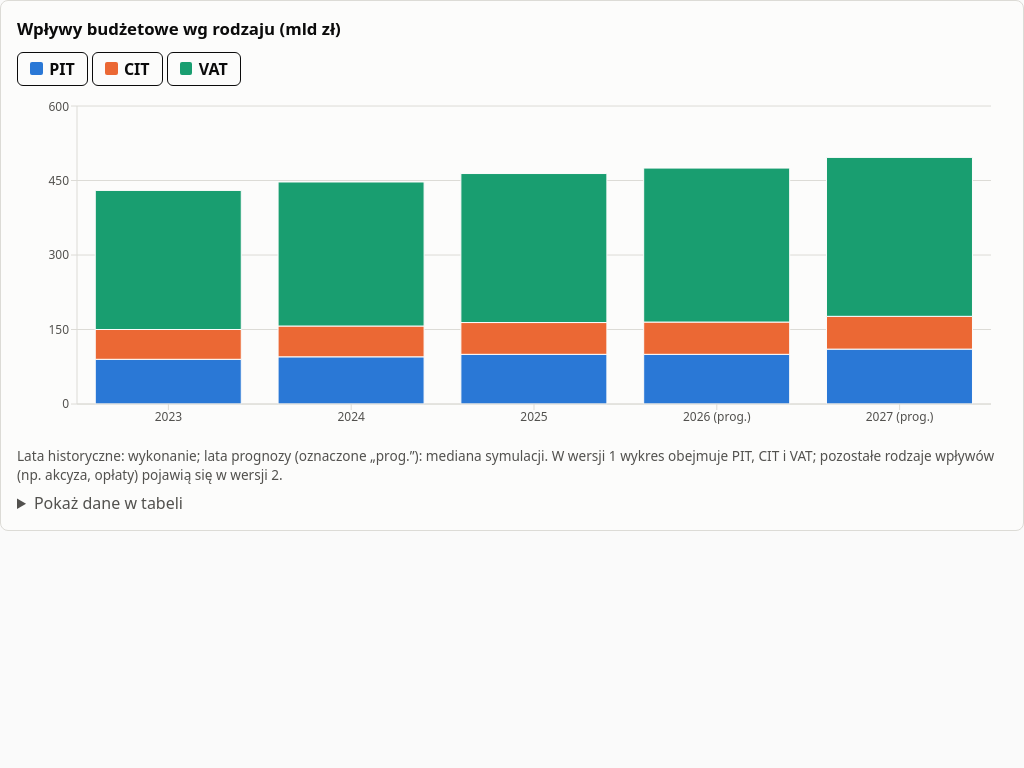
it: BudgetStack › BudgetStack legend toggles series
The image size is (1024, 768).
Step 1. Click the button "PIT" → (52, 69), box [17,52,88,86]
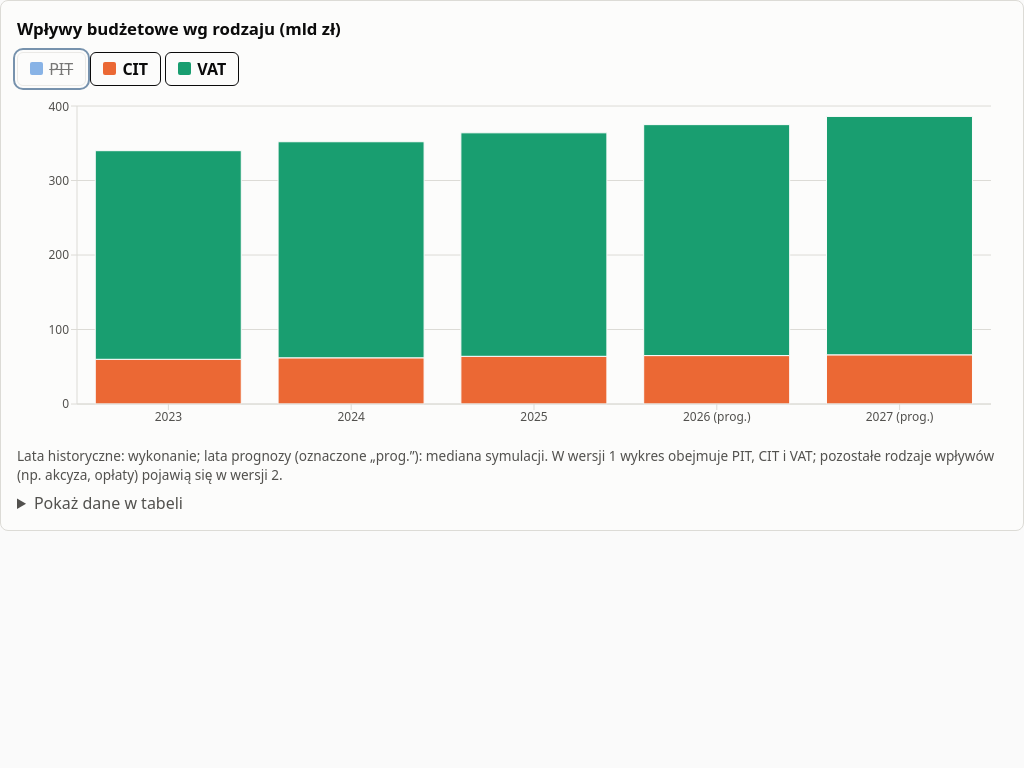
Check: the button "PIT" is not pressed
Step 2. Click the button "PIT" → (52, 69), box [17,52,86,86]
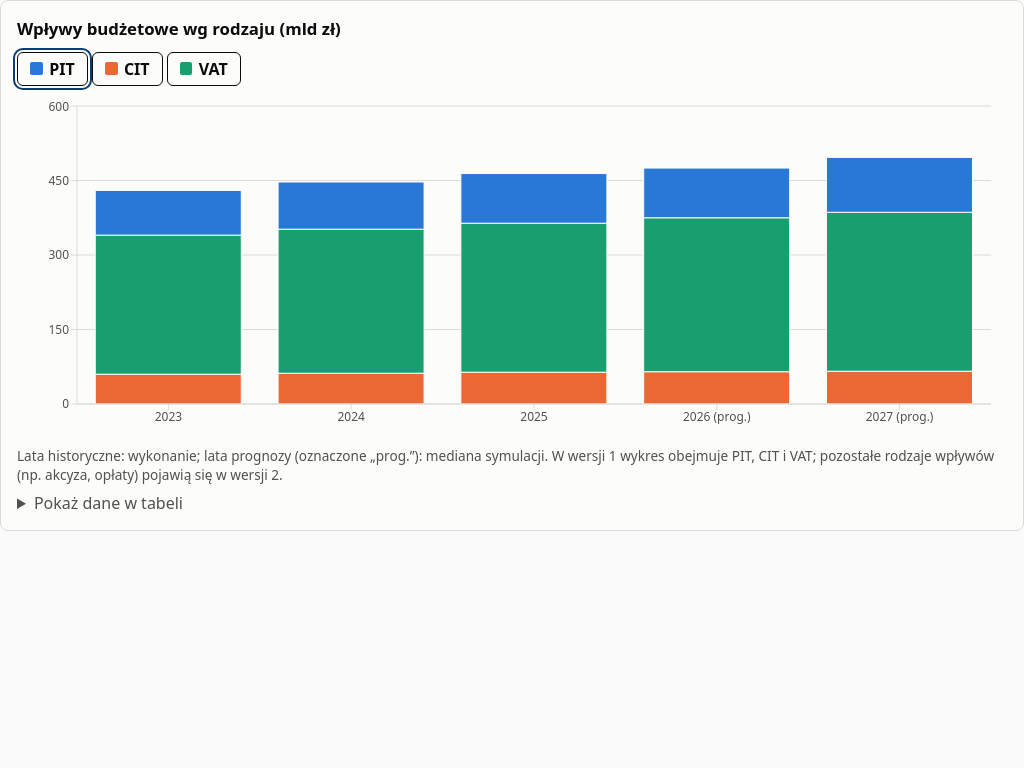
Check: the button "PIT" is pressed, box [17,52,88,86]
